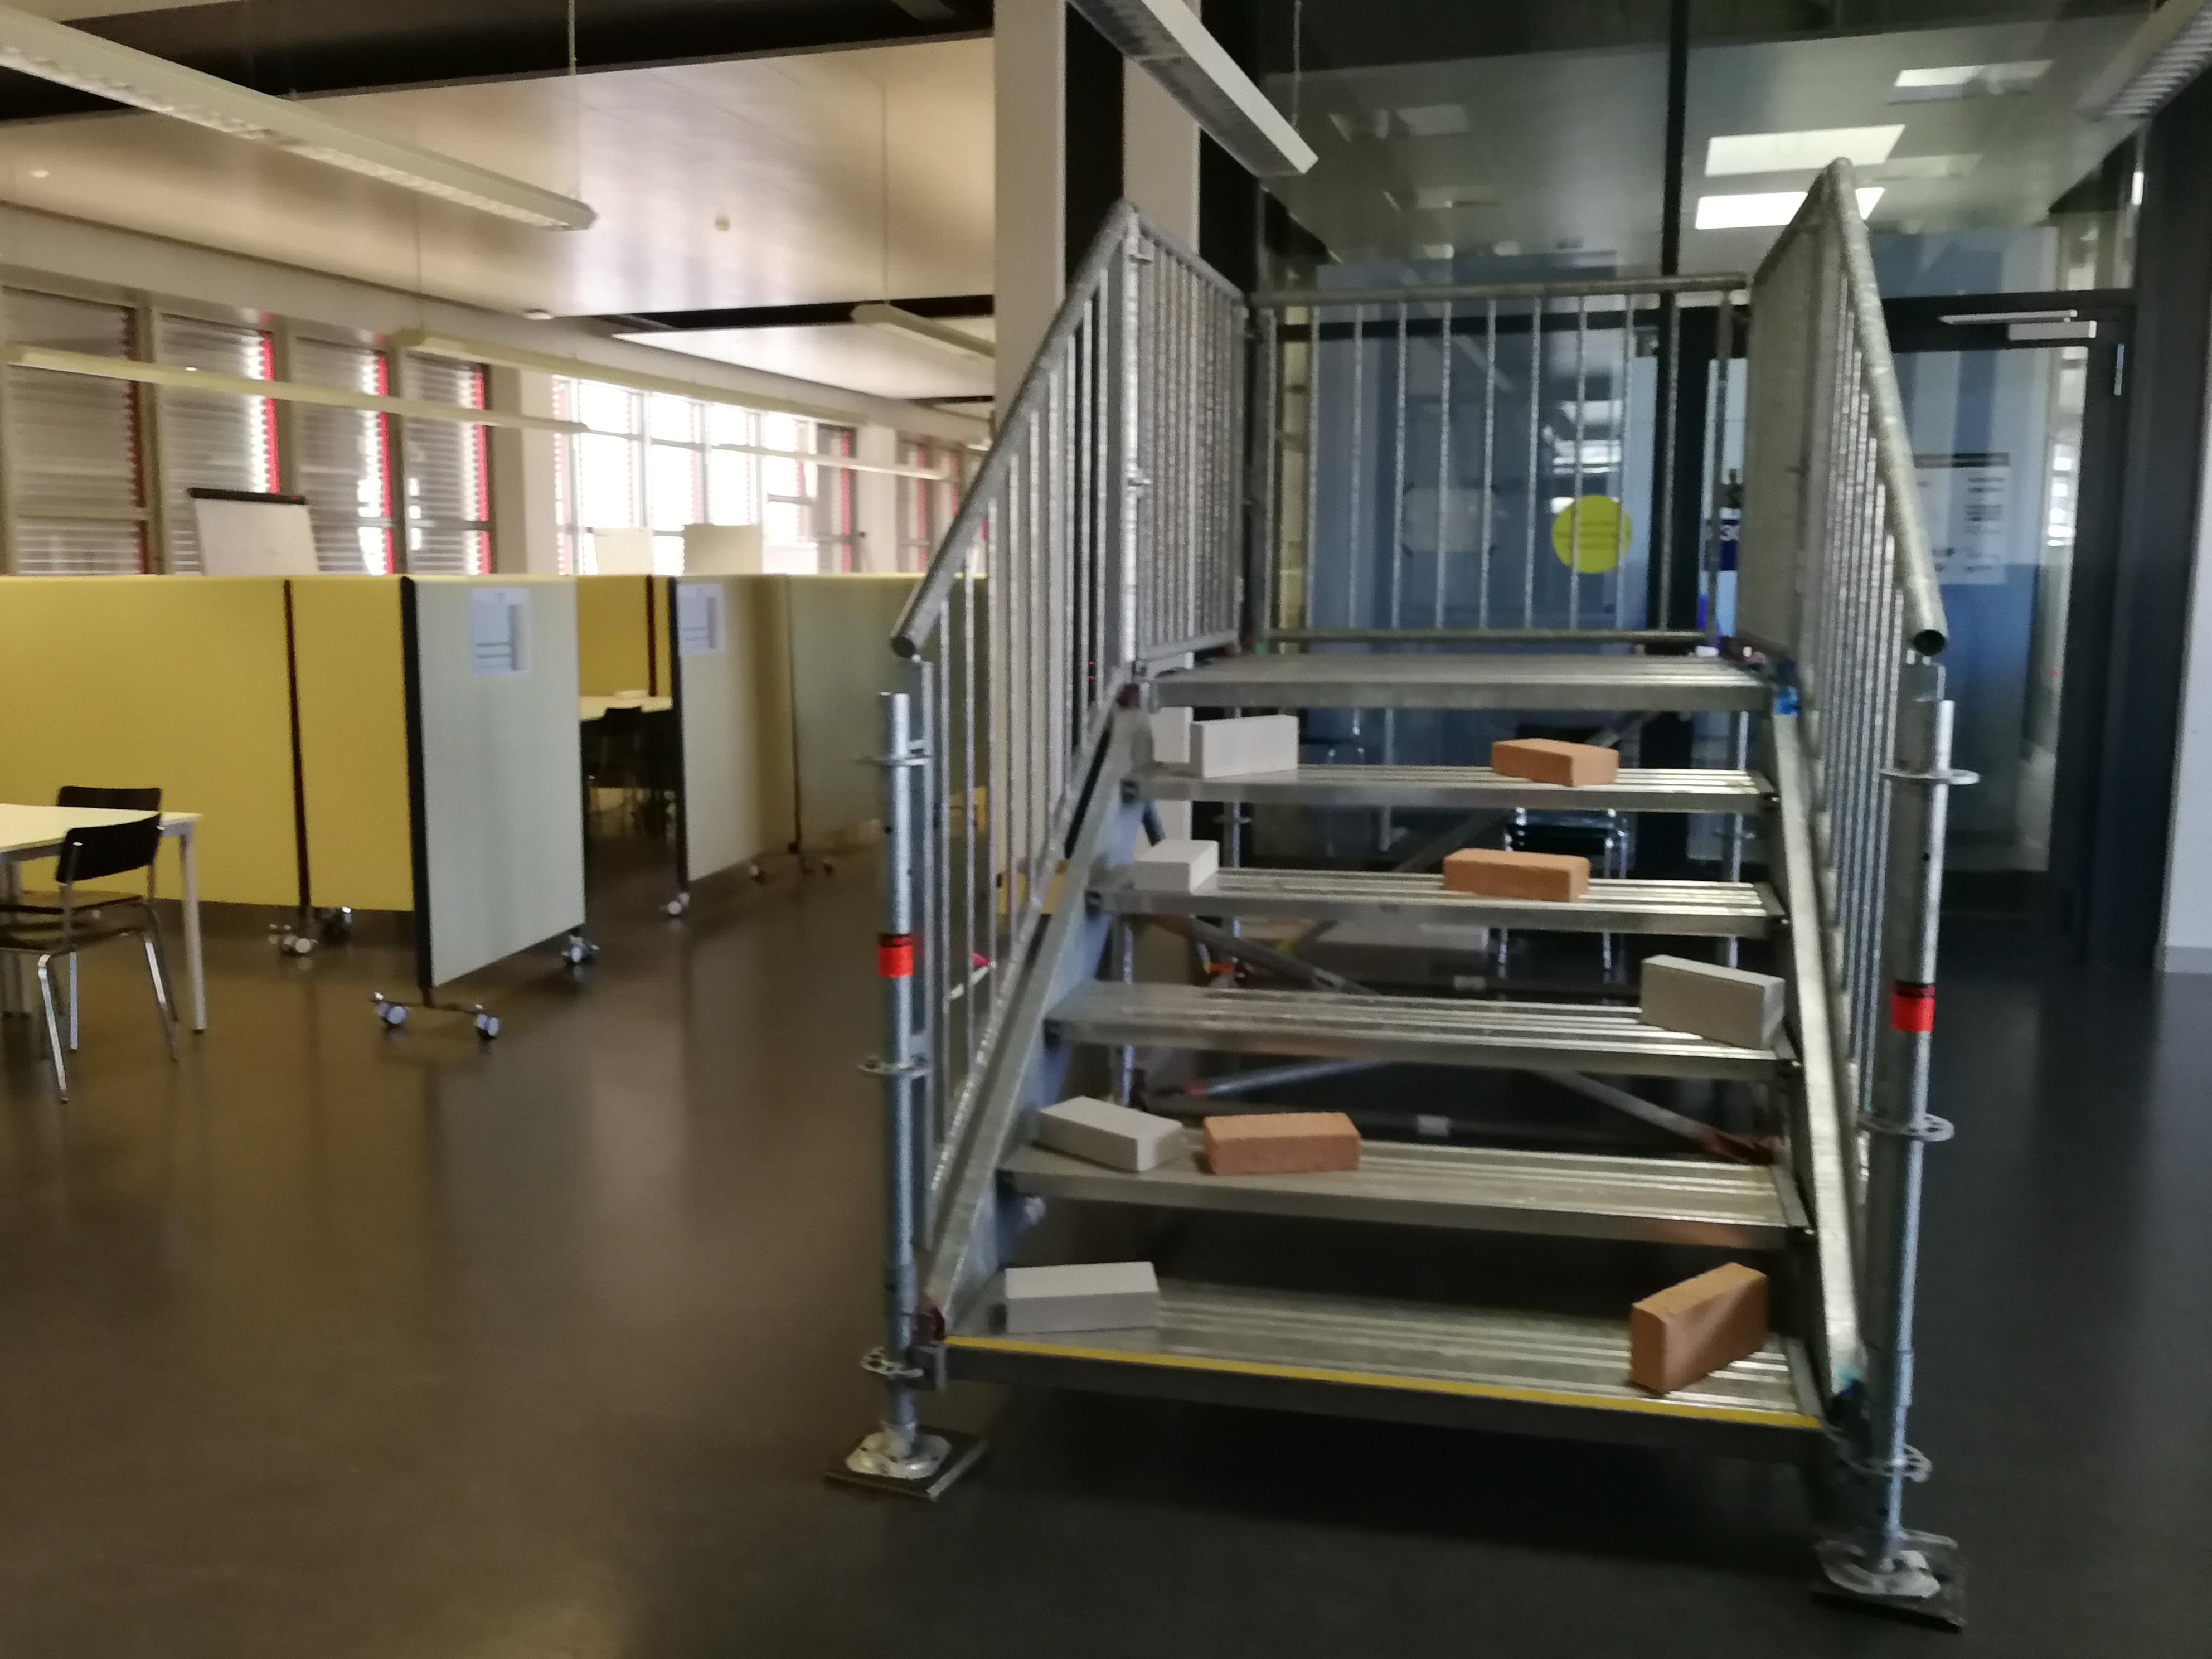brick: (1632, 1258, 1770, 1391), (1642, 957, 1785, 1047), (1036, 1093, 1183, 1169), (1001, 1262, 1157, 1326), (1204, 1115, 1359, 1175), (1440, 849, 1590, 904), (1188, 713, 1296, 772), (1491, 739, 1616, 782), (1132, 840, 1216, 889)
edge: (946, 1340, 1825, 1466), (996, 1162, 1813, 1297), (1040, 1014, 1806, 1082), (1083, 885, 1787, 938), (1116, 772, 1775, 821), (1148, 674, 1766, 711)
stairs: (826, 195, 1975, 1629)
steps: (932, 664, 1853, 1486)
